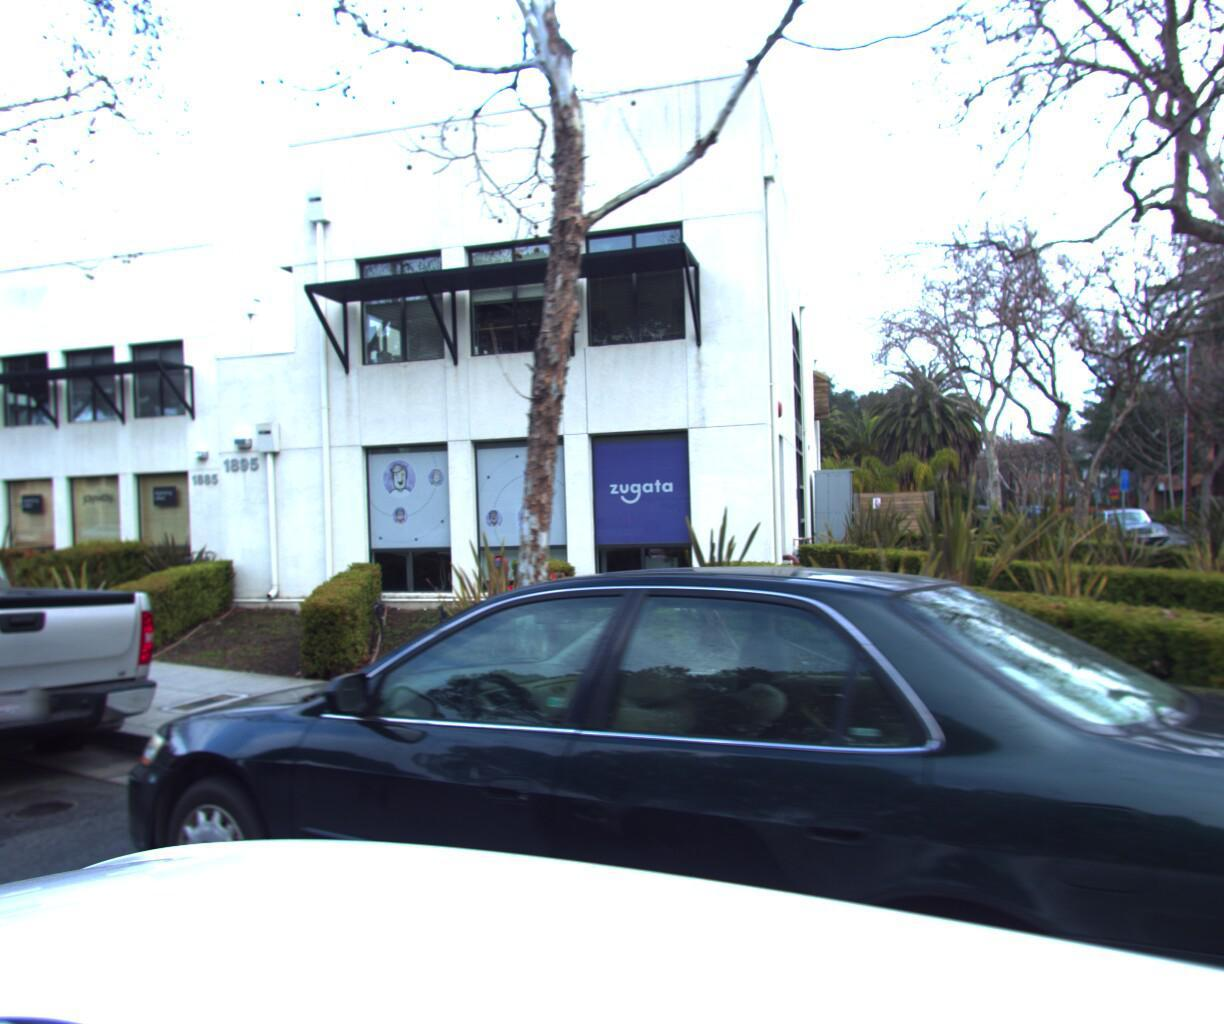car: (3, 534, 1224, 1024), (0, 497, 183, 872), (1072, 502, 1181, 552)
